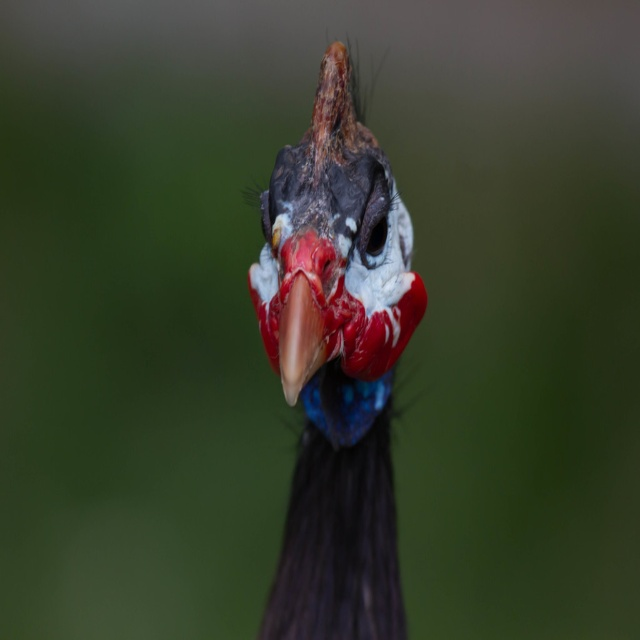Chicken: (226, 48, 439, 590)
